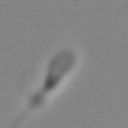abnormal: (4, 85, 61, 128)
